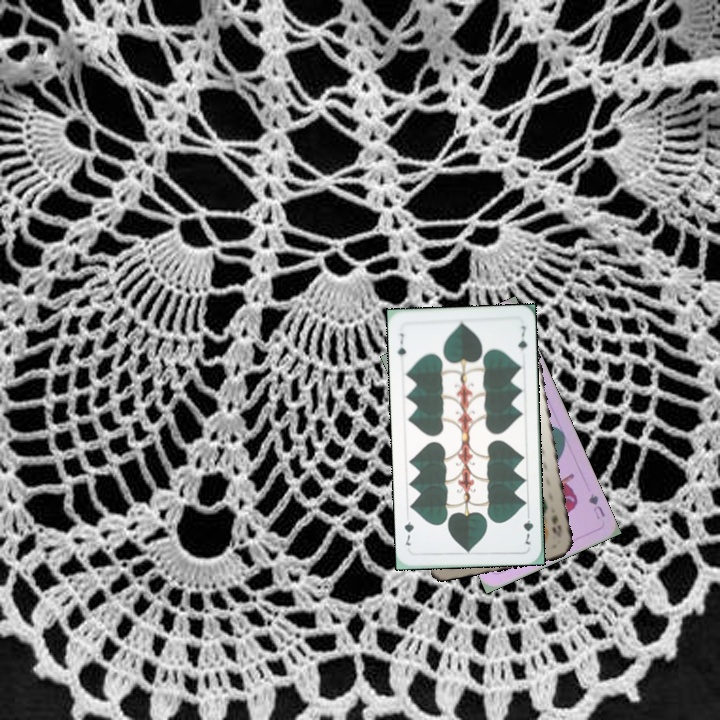EK: (547, 511, 564, 540)
G7: (519, 508, 536, 547), (393, 329, 409, 359)
GU: (584, 489, 608, 522)
